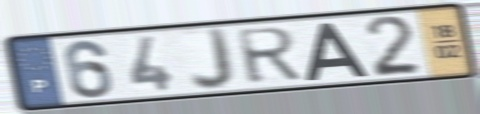2: (362, 14, 426, 79)
4: (128, 33, 177, 94)
6: (61, 37, 115, 100)
A: (302, 20, 371, 83)
J: (188, 26, 237, 93)
R: (232, 25, 305, 87)
